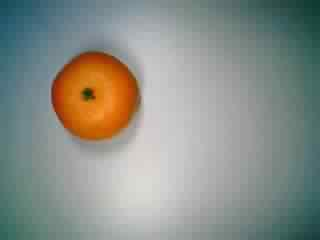orange: (47, 51, 142, 143)
